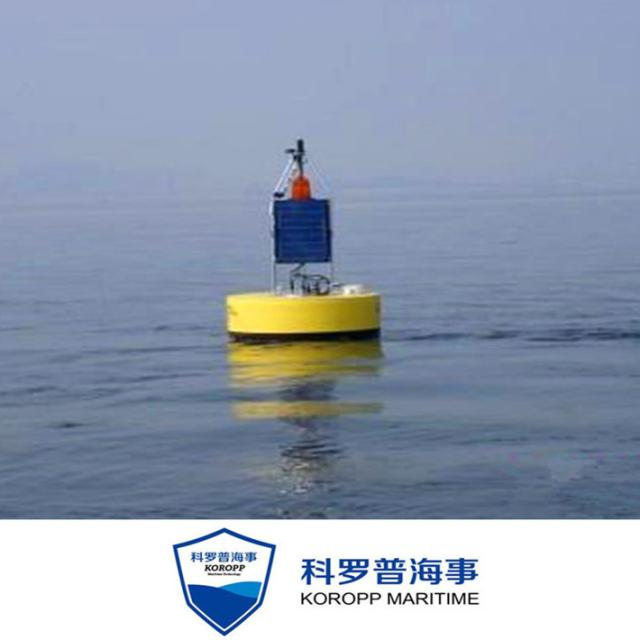buoy: (216, 134, 390, 342)
